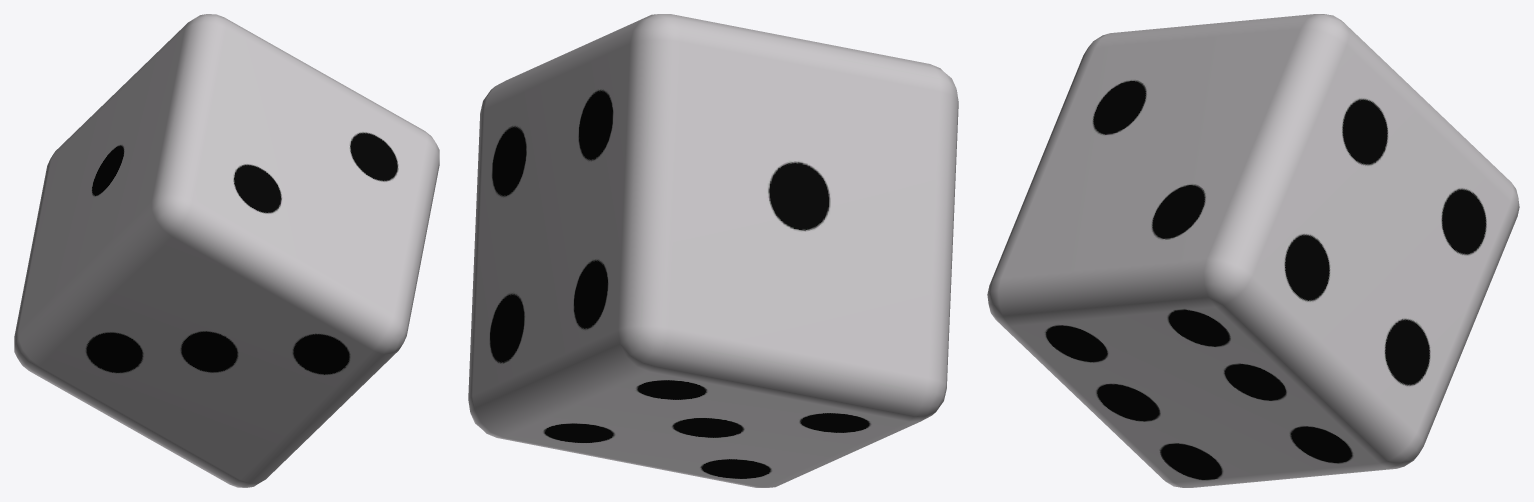
The model's file is Dice_Fbx.fbx.
3 renders of one model, left to right at view 1: azimuth 30°, elevation 25°; view 2: azimuth 150°, elevation 25°; view 3: azimuth 270°, elevation 25°, orthographic. The views are drawn at different scales.
Parts seen in each view (by area): view 1: node_id4; view 2: node_id4; view 3: node_id4.
Boxes of the visible parts, box(x1,y1,x2,y2) form: node_id4: box(14, 14, 439, 487); node_id4: box(468, 14, 958, 487); node_id4: box(987, 14, 1519, 487).
Size of the model in its own units: 0.7705 by 0.7805 by 0.7817.
Materials: 1 (1 with a texture image).
